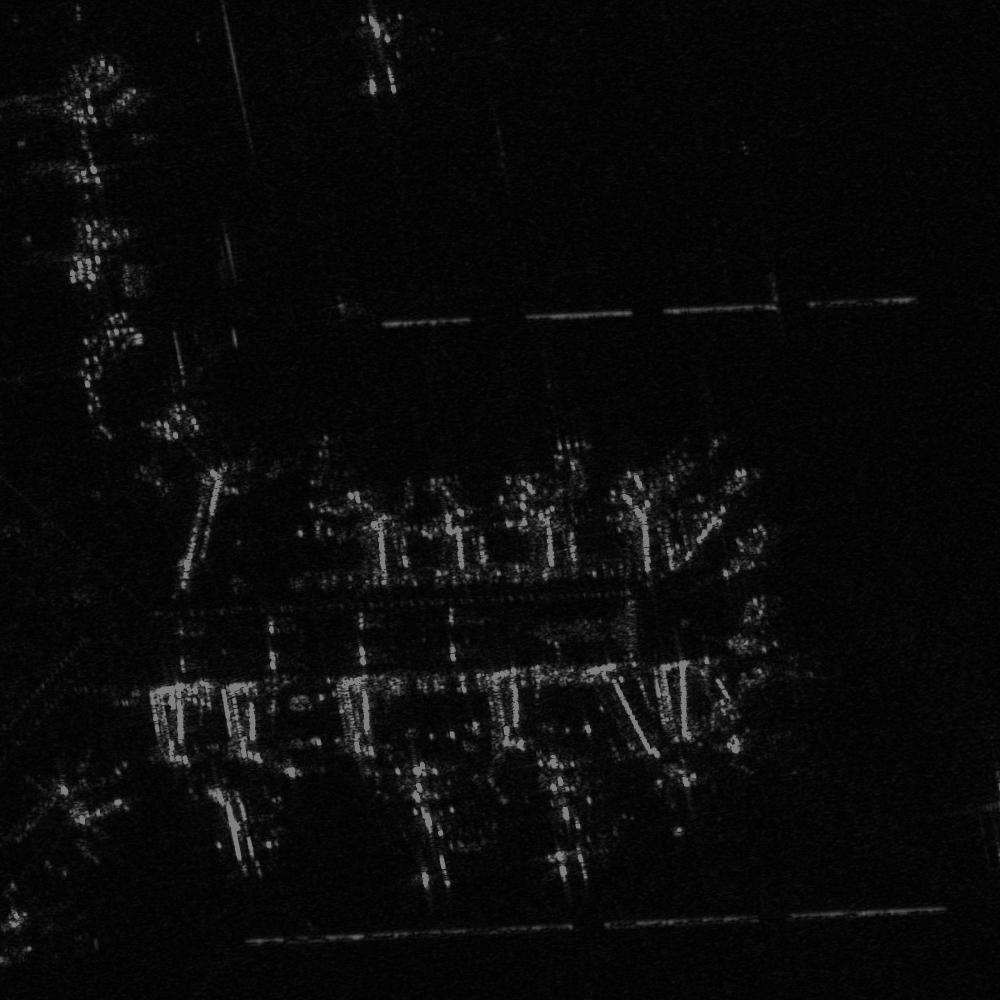A320/321: (62, 42, 176, 145)
Boeing737: (199, 770, 277, 876), (646, 753, 714, 842)
Boeing787: (395, 777, 480, 898)
other: (527, 771, 615, 887)
